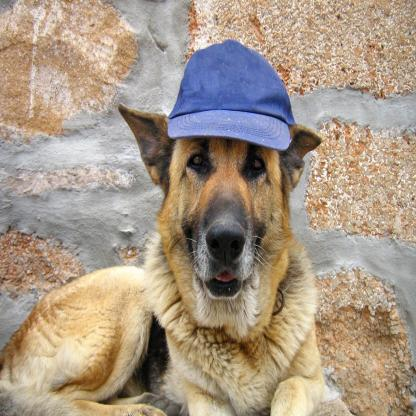dog: (0, 105, 326, 416)
